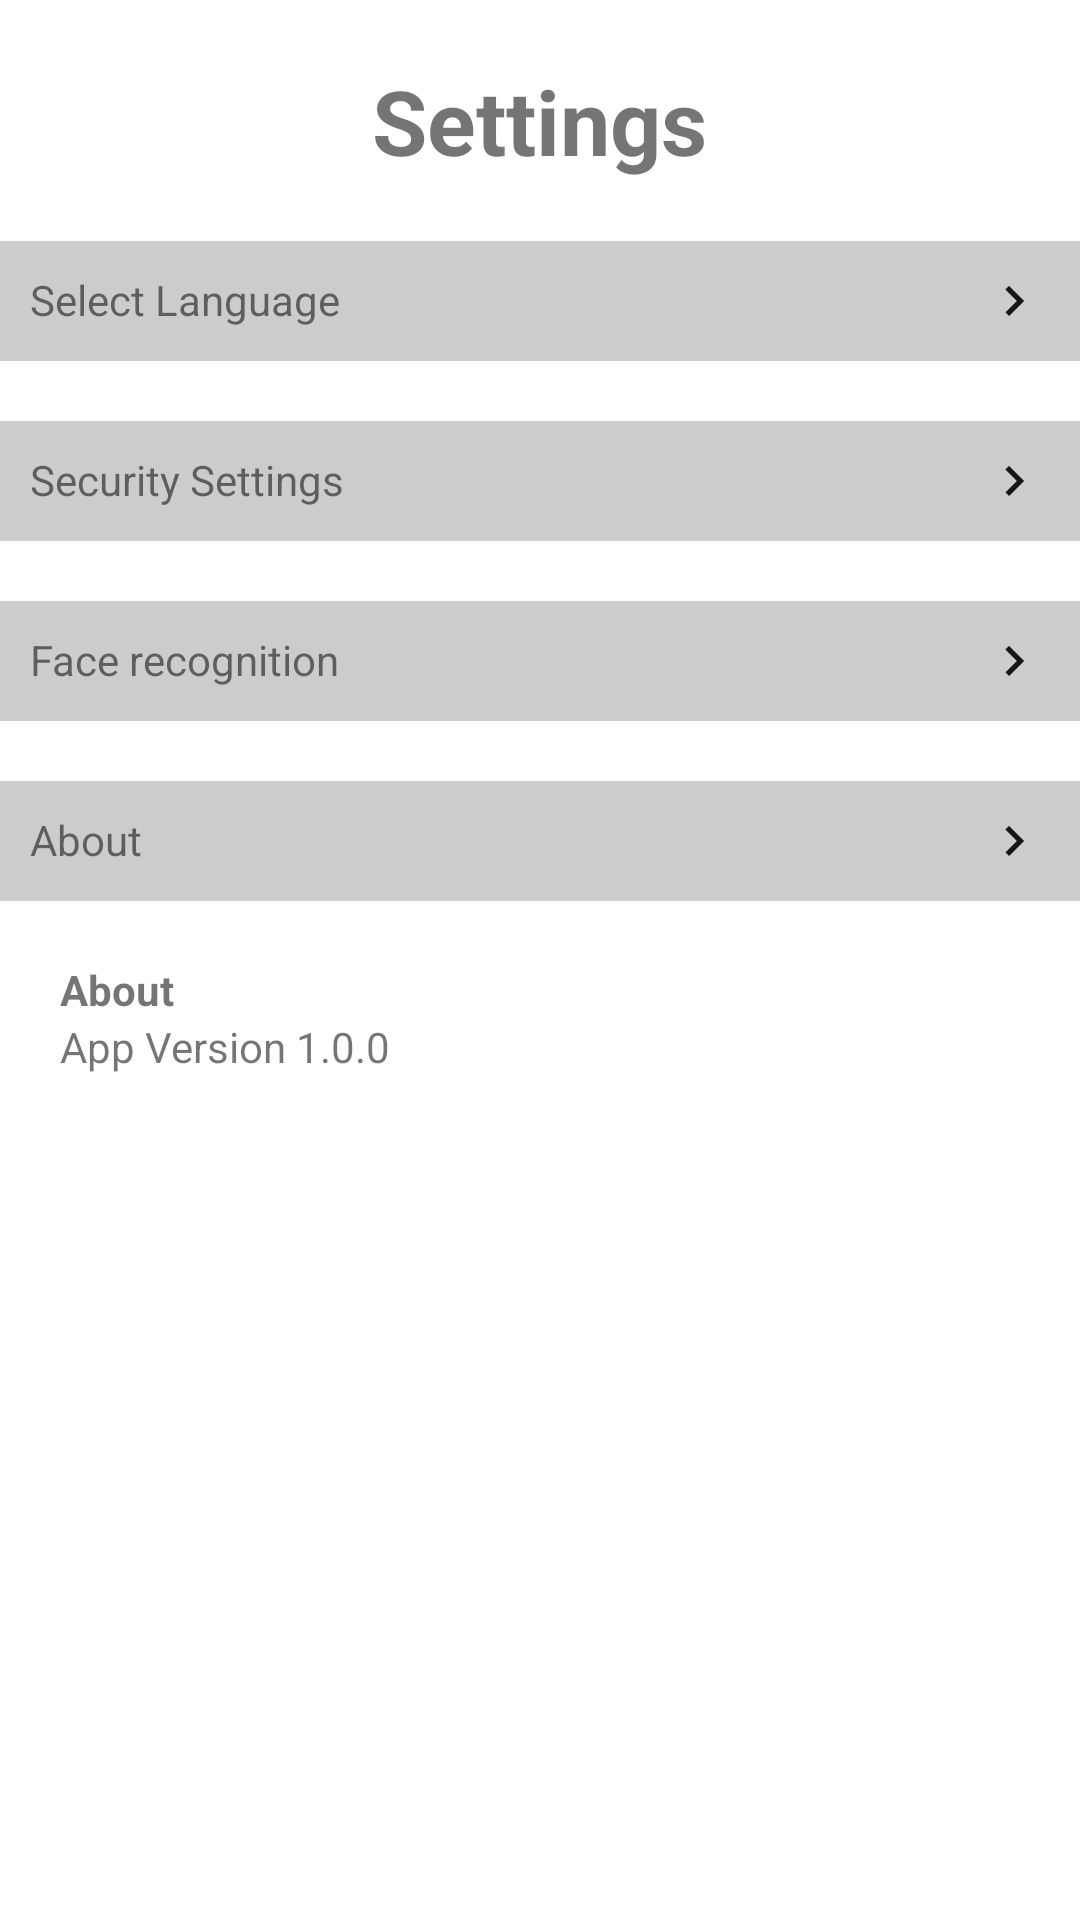

Point at icon controls on the screen. Image size 1080 × 1920, points as (x=x, y=y).
right: (x=1014, y=301), (x=1014, y=481), (x=1014, y=661), (x=1014, y=841)
